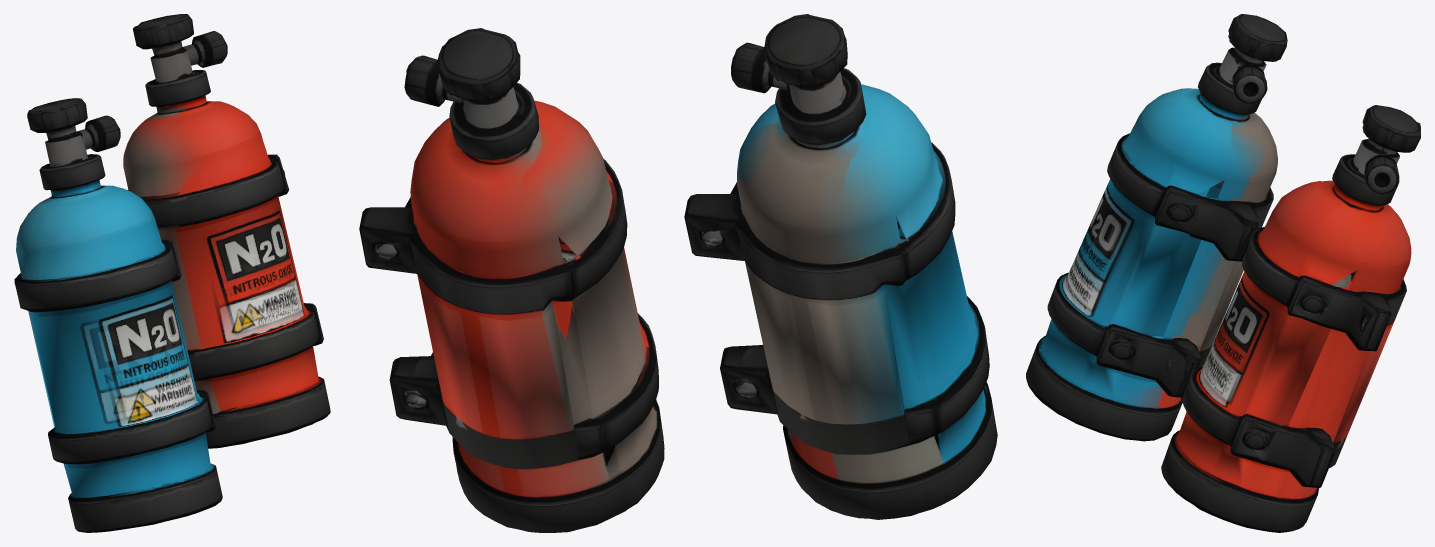
Rendered from kaeferkraft-nitro_kit.glb.
The picture shows the model from 3 angles, left to right: view 1: azimuth 30°, elevation 25°; view 2: azimuth 150°, elevation 25°; view 3: azimuth 270°, elevation 25°; orthographic projection. The views are drawn at different scales.
Visible parts, largest first — view 1: tripo_node_17b33f7c-e4c0-42b0-b617-71f068fe6d80; view 2: tripo_node_17b33f7c-e4c0-42b0-b617-71f068fe6d80; view 3: tripo_node_17b33f7c-e4c0-42b0-b617-71f068fe6d80.
Part boxes in pixels (x1,y1,x2,y2): tripo_node_17b33f7c-e4c0-42b0-b617-71f068fe6d80: (14, 14, 330, 532); tripo_node_17b33f7c-e4c0-42b0-b617-71f068fe6d80: (359, 14, 997, 532); tripo_node_17b33f7c-e4c0-42b0-b617-71f068fe6d80: (1026, 14, 1420, 532).
Bounding box in the file's own units: 0.5813 × 0.65 × 0.5762.
Materials: 1 (1 with a texture image).
